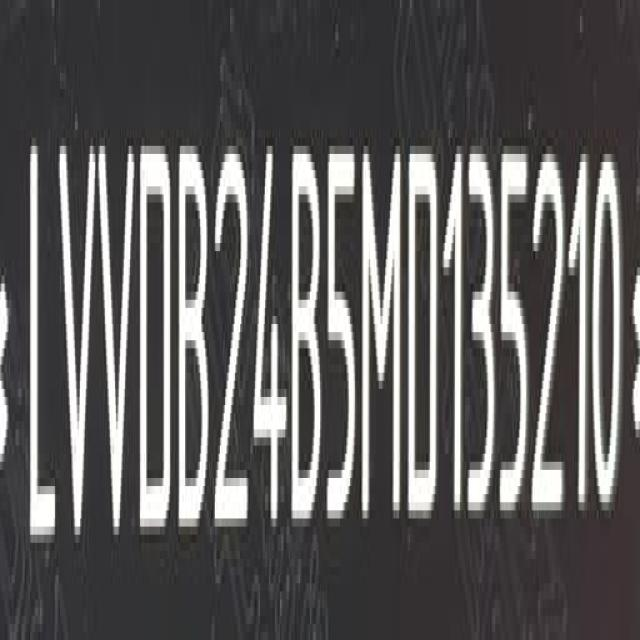0: (590, 150, 623, 513)
1: (567, 147, 591, 516), (442, 138, 462, 522)
2: (213, 147, 250, 531), (532, 141, 565, 519)
3: (468, 141, 492, 525)
4: (254, 138, 288, 531)
5: (325, 123, 358, 540), (499, 123, 529, 528)
B: (177, 129, 209, 537), (292, 144, 322, 531)
D: (137, 123, 173, 537), (406, 135, 441, 528)
L: (30, 123, 58, 546)
M: (361, 135, 402, 534)
V: (97, 123, 136, 531), (59, 132, 96, 534)
